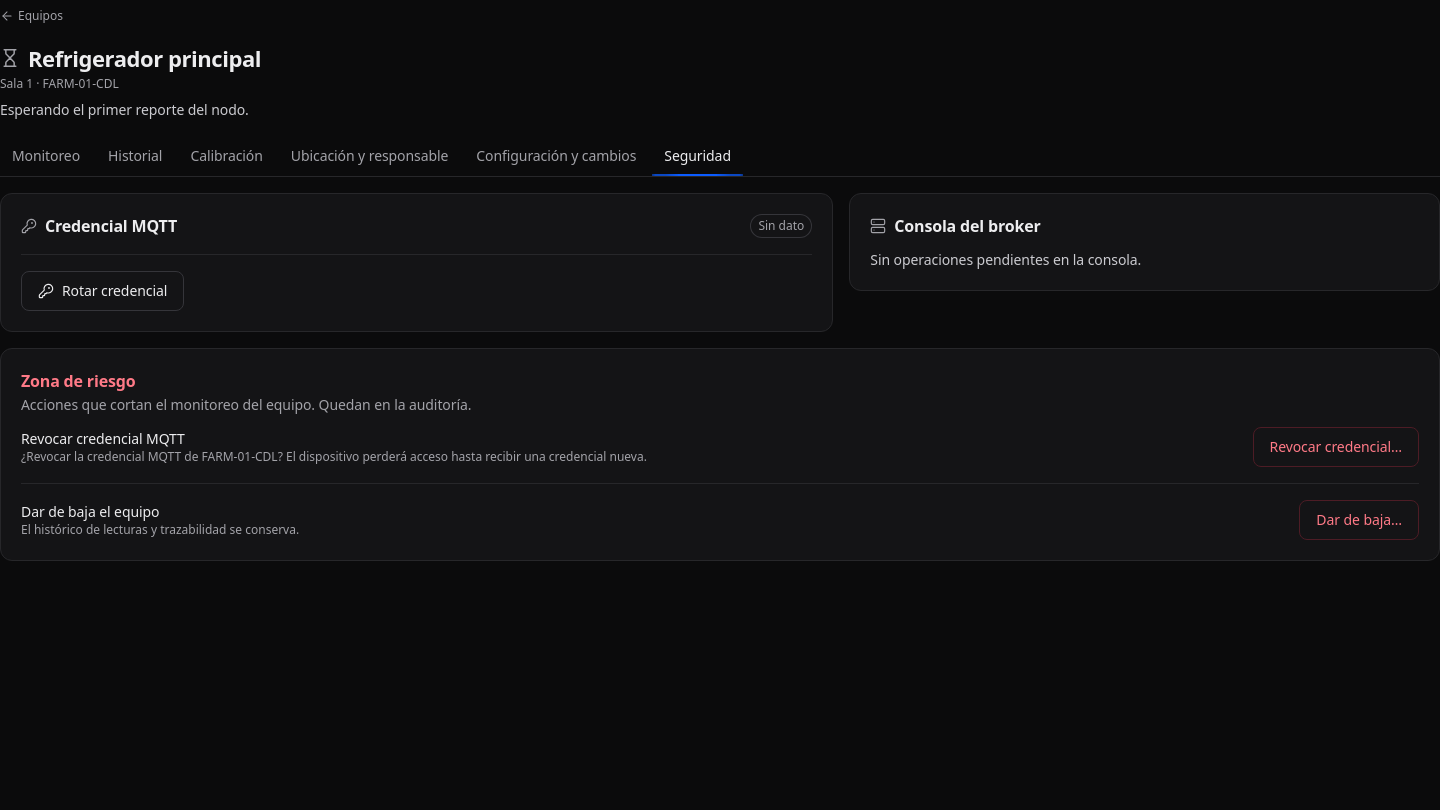
it: Detalle de dispositivo (pestañas) › HU-43: dar de baja pide motivo y anuncia que el histórico se conserva
Click the button "Dar de baja…".
click(1359, 520)  # box [1299,500,1419,540]
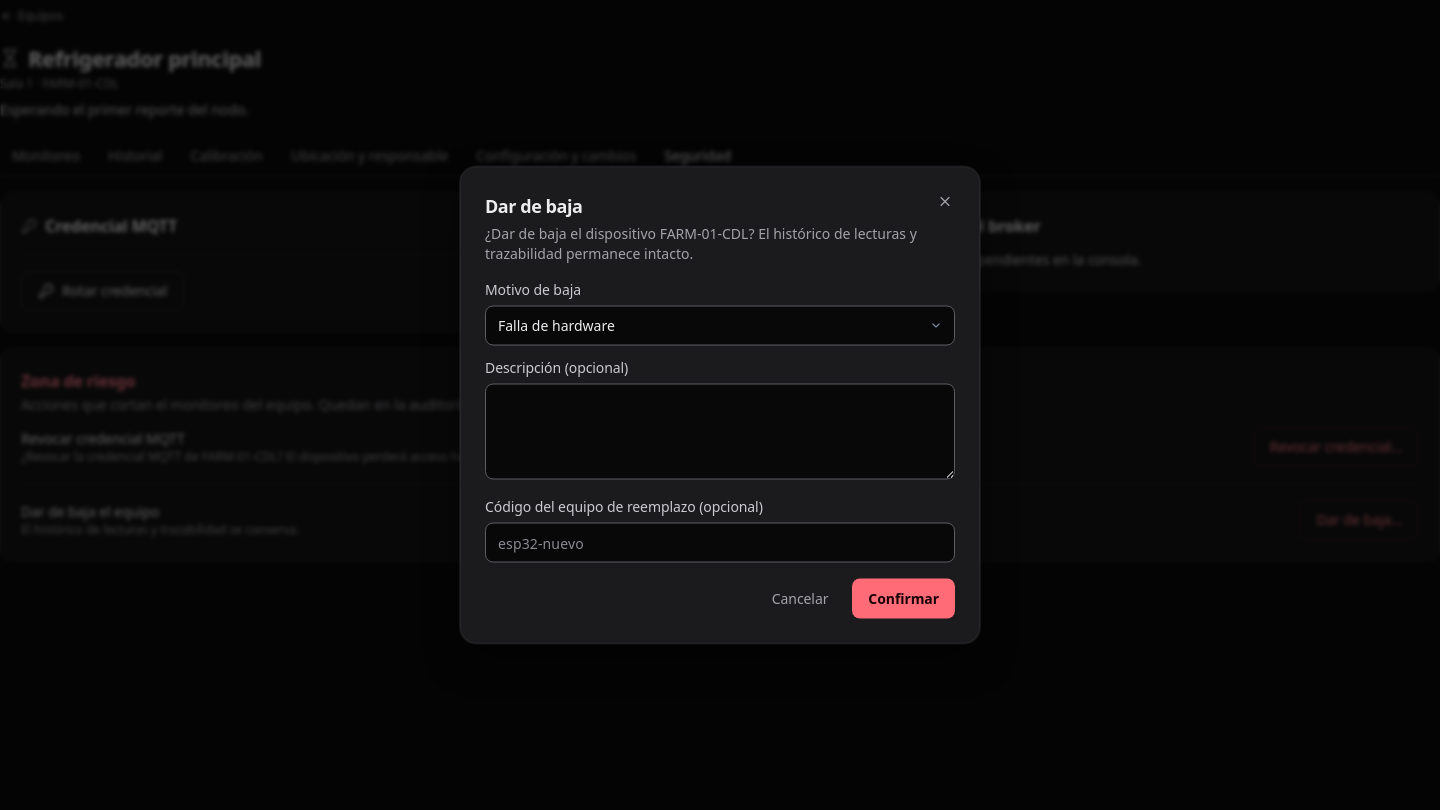
Now the dialog shows "histórico de lecturas y trazabilidad permanece intacto", box [485,224,917,262]
Select "Reemplazo" in the dropdown labelled "Motivo de baja" at [720, 326], box [485,306,955,346]
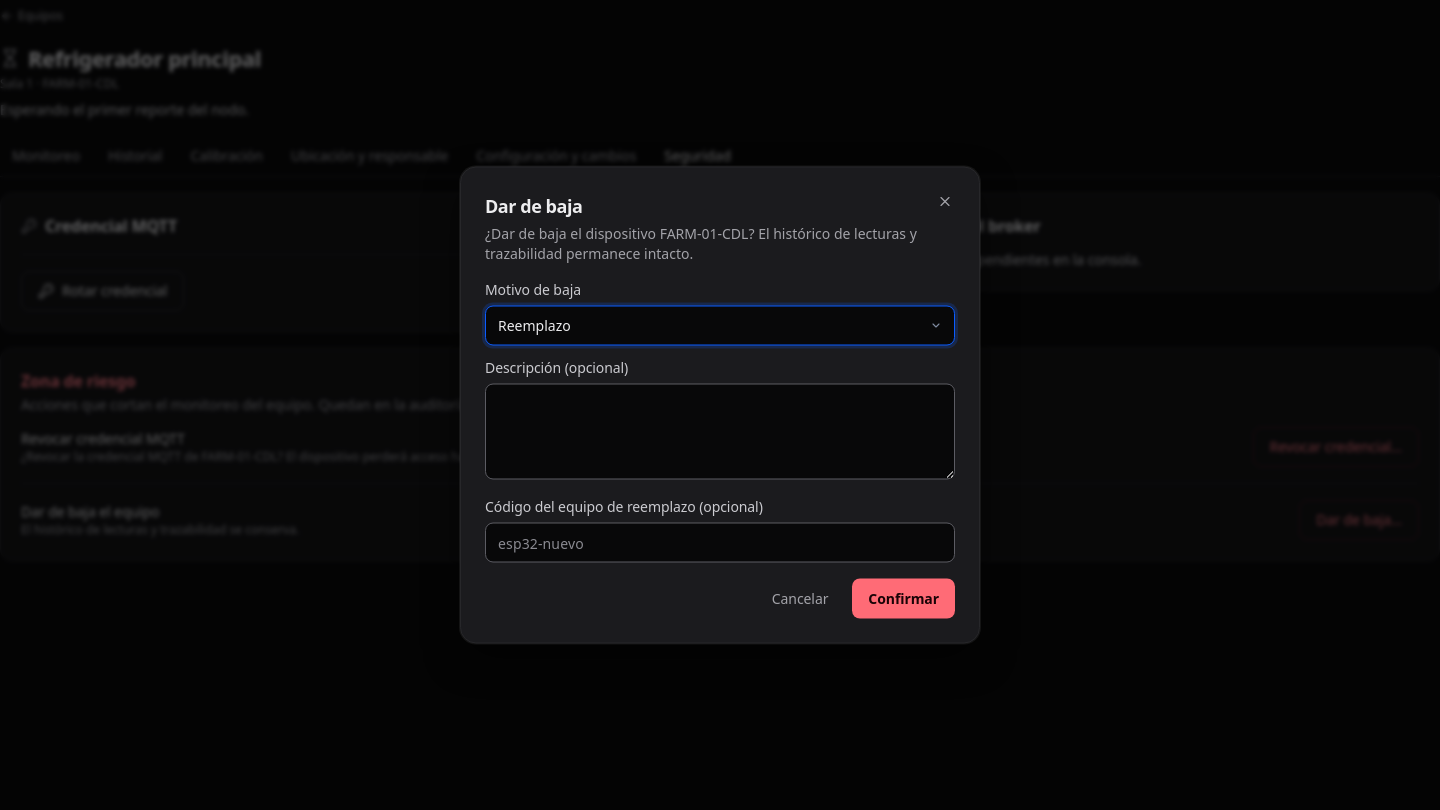
Click the button "Confirmar".
click(904, 598)  # box [852,578,955,618]
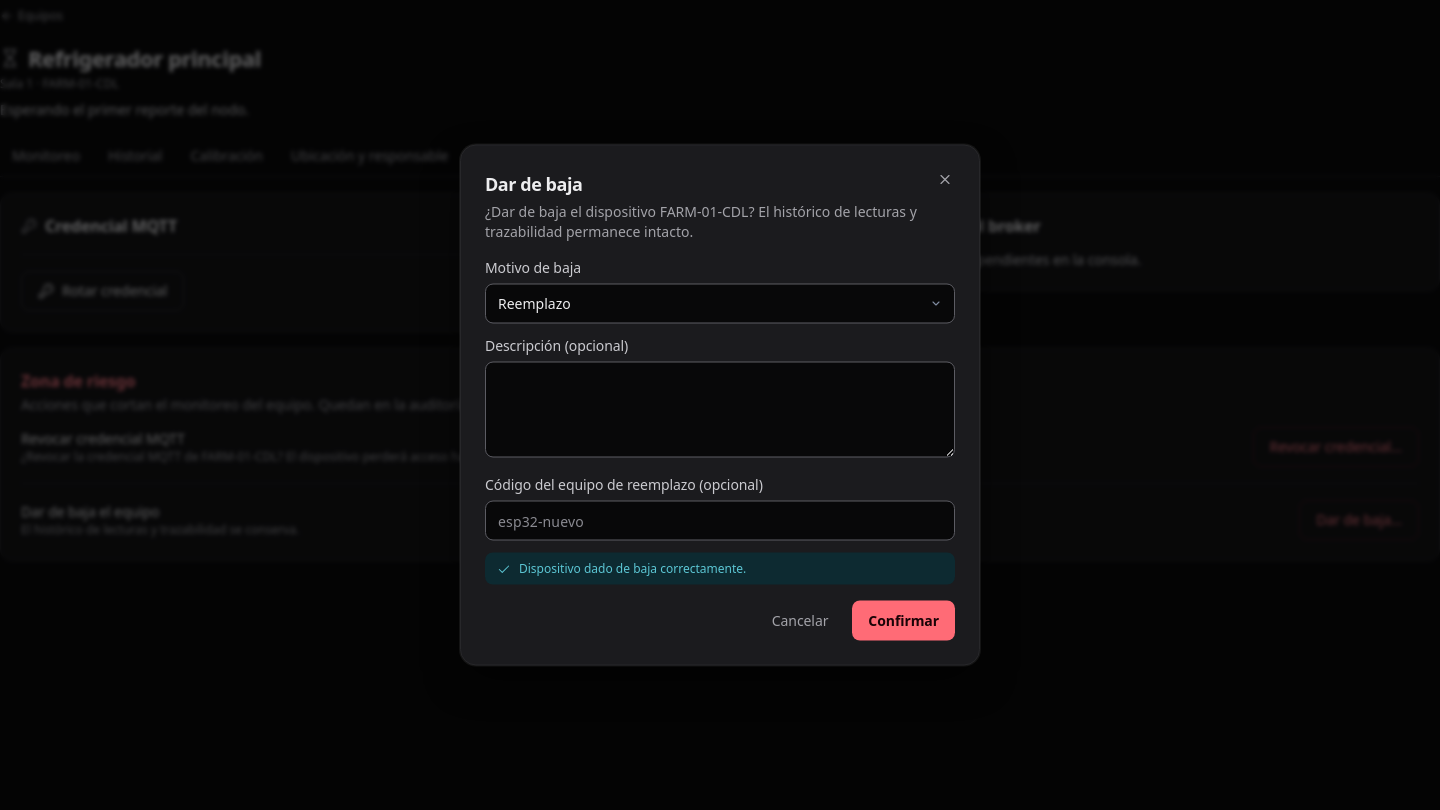
Now the message reads "Dispositivo dado de baja correctamente.", box [519,560,746,576]
